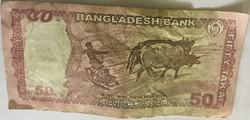50 taka: (1, 0, 229, 114)
